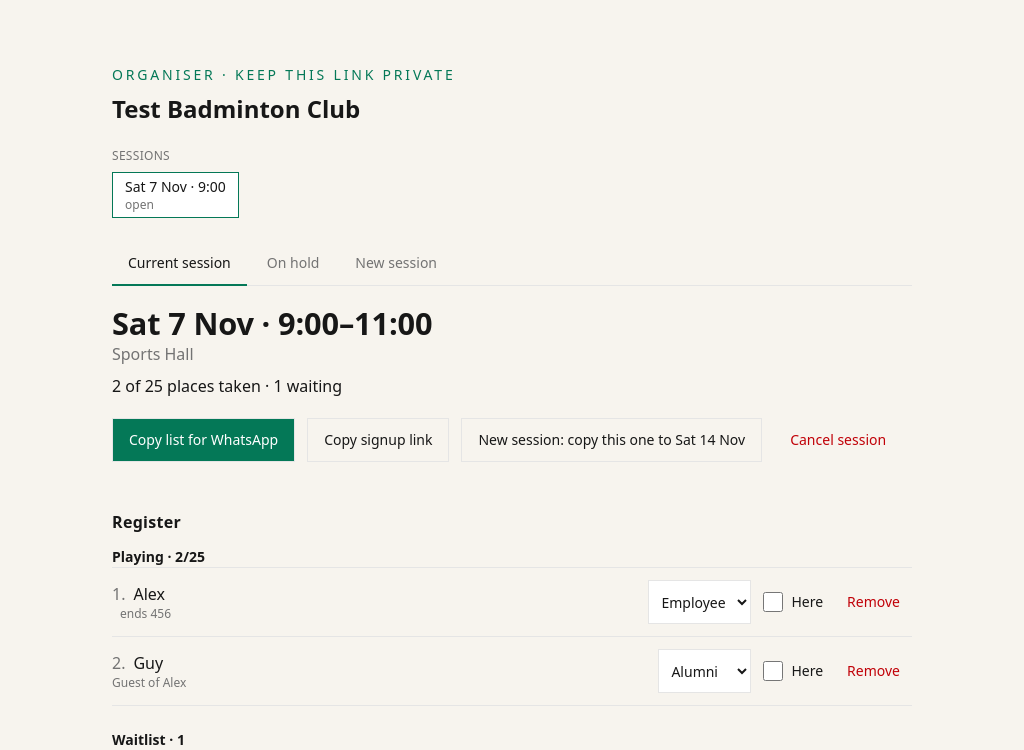
Test case: new session by copying › moves to the New session tab with date, time, venue and places prefilled a week on
This screenshot has width=1024, height=750.
Click the button "New session: copy this one to Sat 14 Nov". click: (612, 440)
box: [462,418,762,462]
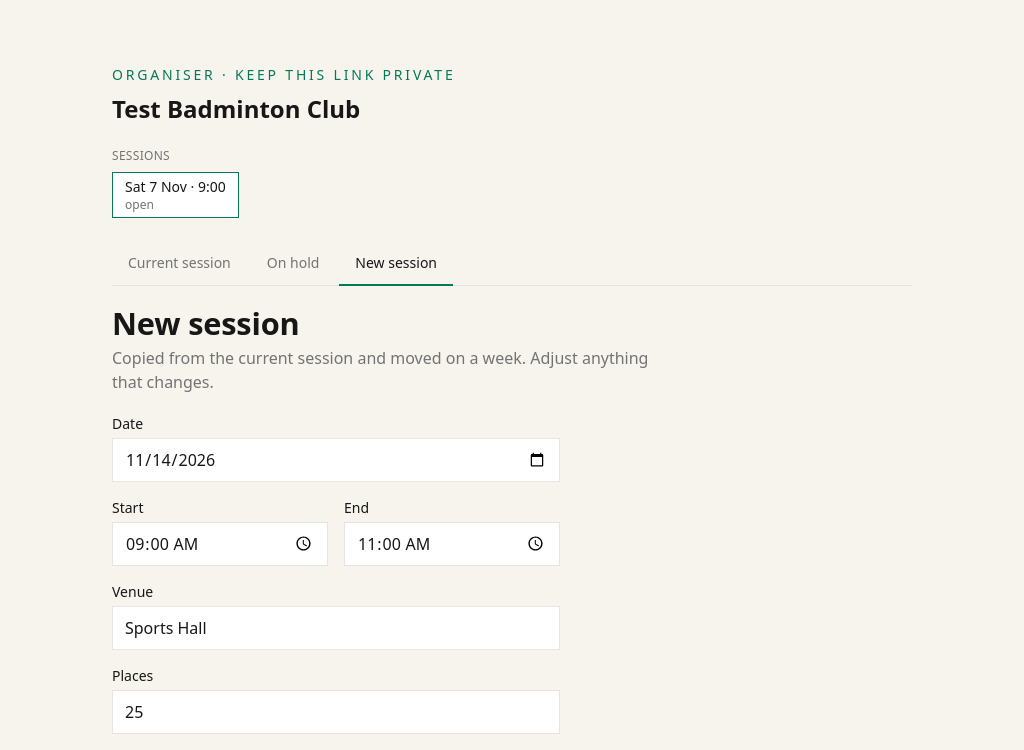
Expected: the date field labelled "Date" holds "2026-11-14", [112,438,560,482]
Expected: the time field labelled "Start" holds "09:00", [112,522,328,566]
Expected: the time field labelled "End" holds "11:00", [344,522,560,566]
